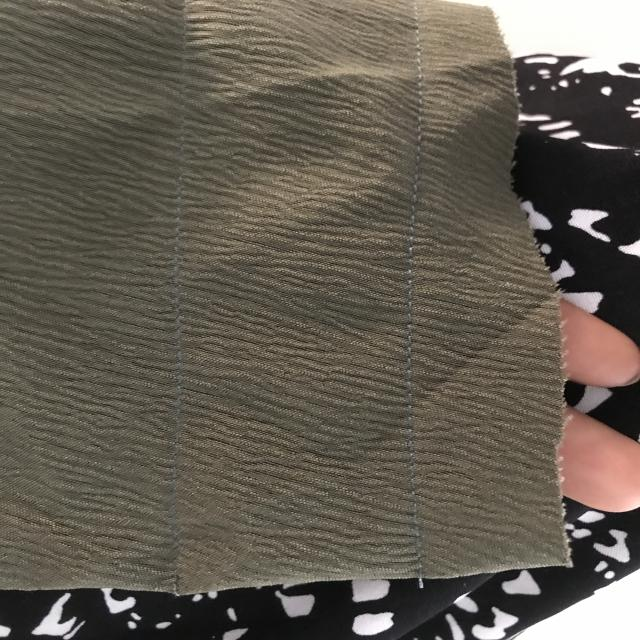good: (398, 64, 443, 213)
